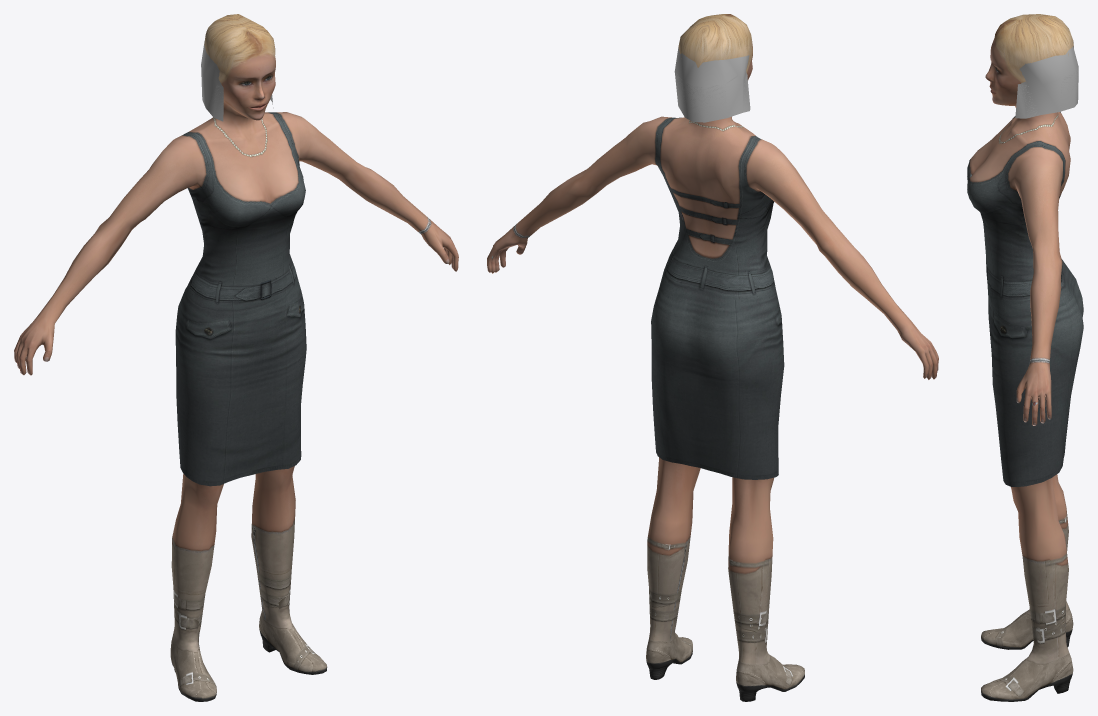
The model's file is casual20_f.fbx.
3 renders of one model, left to right at view 1: azimuth 30°, elevation 25°; view 2: azimuth 150°, elevation 25°; view 3: azimuth 270°, elevation 25°, orthographic.
Visible parts, largest first — view 1: casual20_f_highpoly; view 2: casual20_f_highpoly; view 3: casual20_f_highpoly.
Boxes of the visible parts, x1,y1,x2,y2 form: casual20_f_highpoly: (14,14,458,701); casual20_f_highpoly: (487,14,938,701); casual20_f_highpoly: (967,14,1083,701).
Size of the model in its own units: 121 by 171 by 27.8.
